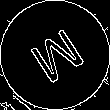M_SE: (22, 21, 88, 89)
